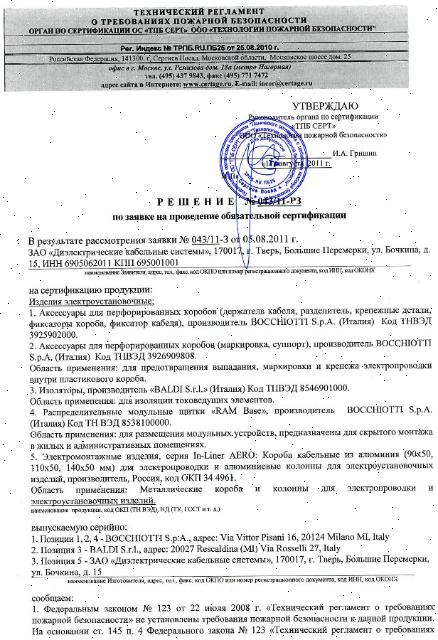stamp: (220, 119, 307, 204)
